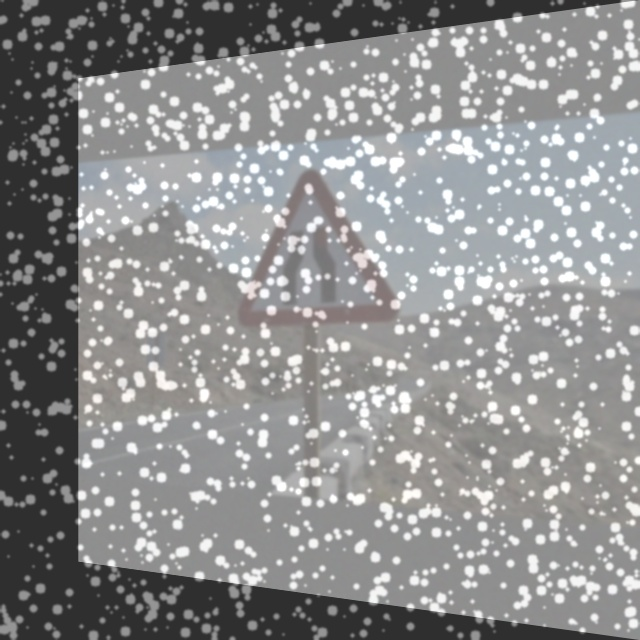Narrow_Road_Ahead: (234, 165, 399, 328)
